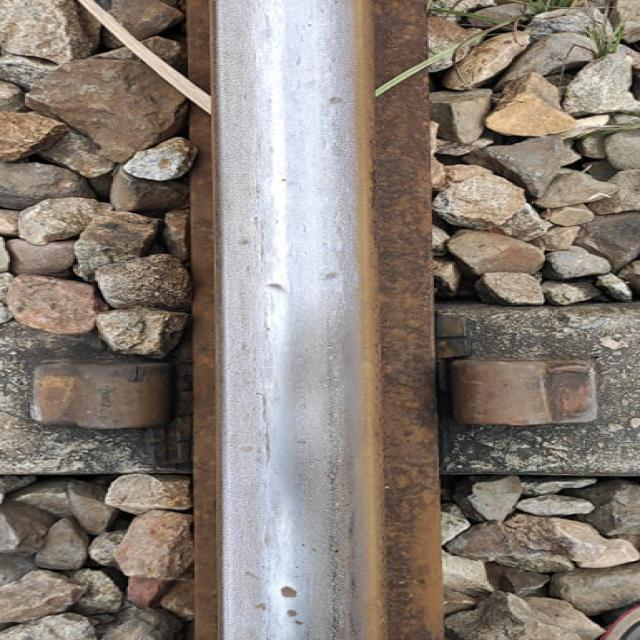head_checks_low: (280, 610, 312, 626), (272, 586, 306, 600)
